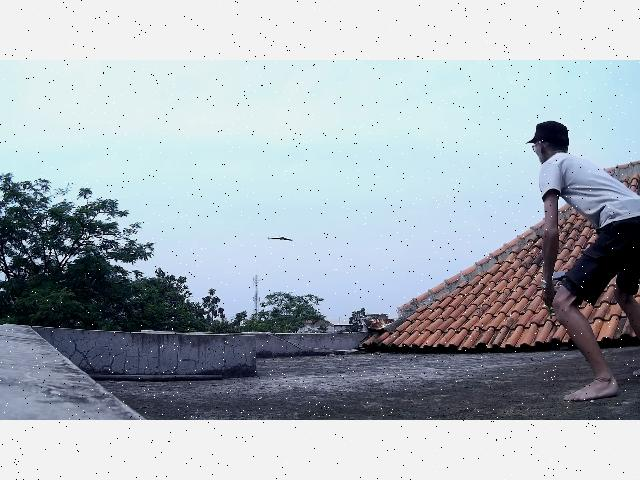Anti-Drone: (250, 226, 302, 253)
